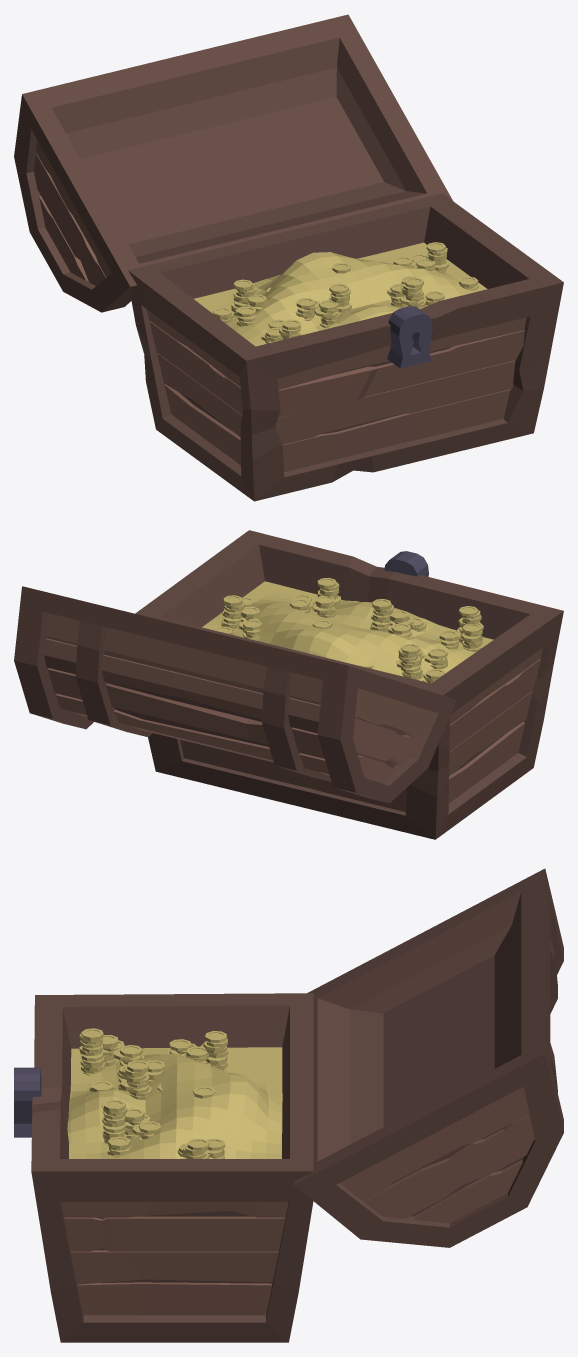
Rendered from Chest_Gold.glb.
3 renders of one model, top to bottom at view 1: azimuth 30°, elevation 25°; view 2: azimuth 150°, elevation 25°; view 3: azimuth 270°, elevation 25°, orthographic. The views are drawn at different scales.
Visible parts, largest first — view 1: Chest_Base, Chest_Top; view 2: Chest_Base, Chest_Top; view 3: Chest_Base, Chest_Top.
Boxes of the visible parts, x1,y1,x2,y2 form: Chest_Base: [128, 193, 563, 501]; Chest_Top: [14, 14, 452, 312]; Chest_Base: [135, 530, 563, 839]; Chest_Top: [14, 586, 456, 803]; Chest_Base: [14, 993, 313, 1342]; Chest_Top: [293, 868, 563, 1247].
Size of the model in its own units: 1.18 by 0.8994 by 1.48.
